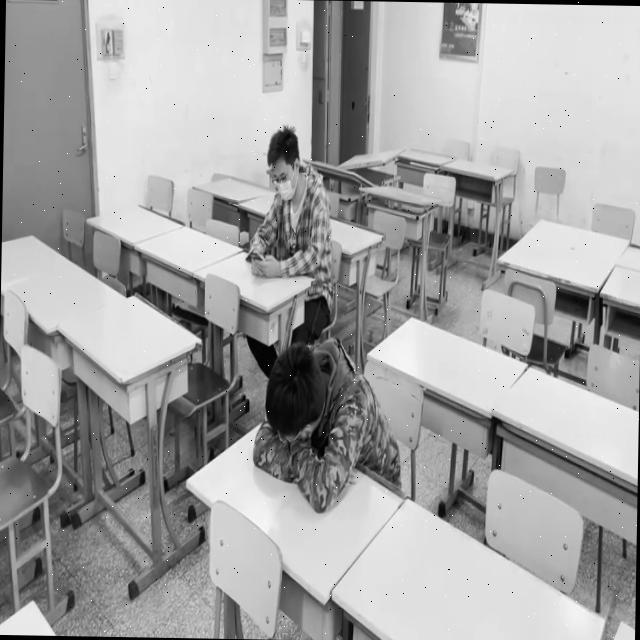phone: (247, 126, 332, 279)
sleep: (257, 339, 381, 513)
